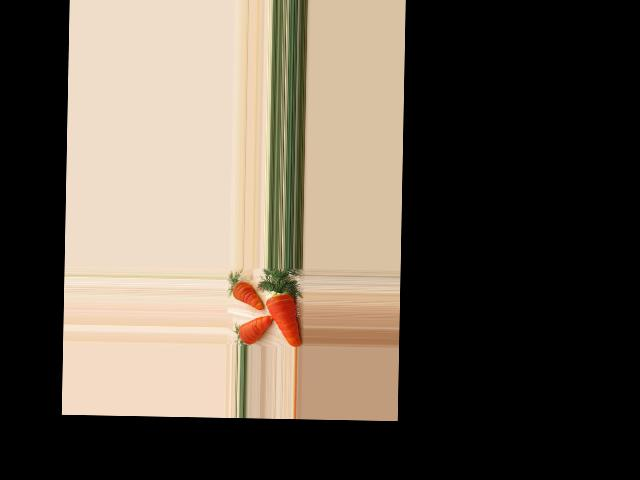carrot: (261, 288, 305, 347)
